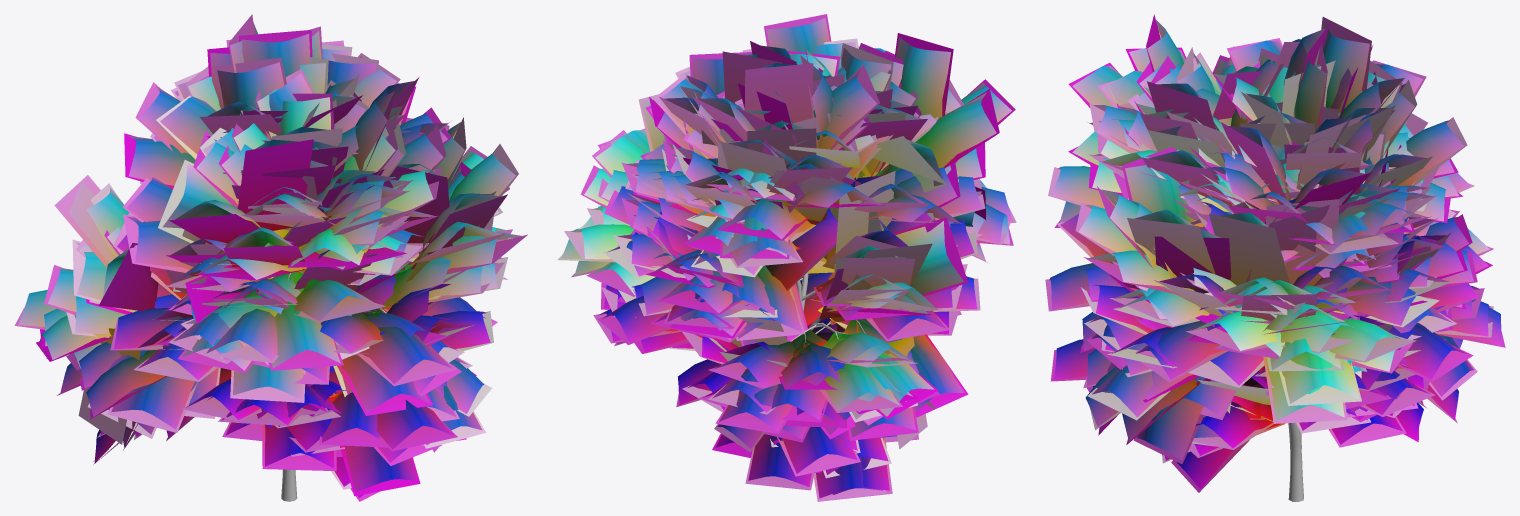
The model's file is elm_03_2.fbx.
3 renders of one model, left to right at view 1: azimuth 30°, elevation 25°; view 2: azimuth 150°, elevation 25°; view 3: azimuth 270°, elevation 25°, orthographic. The views are drawn at different scales.
Parts seen in each view (by area): view 1: elm_rought_leaves_03_2_lod_0, elm_rought_leaves_03_2_shadow, elm_rought_tree_03_2_lod_0; view 2: elm_rought_leaves_03_2_lod_0, elm_rought_leaves_03_2_shadow, elm_rought_tree_03_2_lod_0; view 3: elm_rought_leaves_03_2_lod_0, elm_rought_leaves_03_2_shadow, elm_rought_tree_03_2_lod_0.
Part boxes in pixels (<box>): elm_rought_leaves_03_2_lod_0: <box>18,19,523,497</box>; elm_rought_leaves_03_2_shadow: <box>14,14,527,501</box>; elm_rought_tree_03_2_lod_0: <box>256,261,410,501</box>; elm_rought_leaves_03_2_lod_0: <box>561,18,1012,498</box>; elm_rought_leaves_03_2_shadow: <box>557,14,1016,501</box>; elm_rought_tree_03_2_lod_0: <box>790,272,865,344</box>; elm_rought_leaves_03_2_lod_0: <box>1049,19,1501,489</box>; elm_rought_leaves_03_2_shadow: <box>1045,14,1505,492</box>; elm_rought_tree_03_2_lod_0: <box>1288,422,1303,501</box>.
Size of what is drawn, in the model's own units: 11.72 by 12.18 by 11.05.
